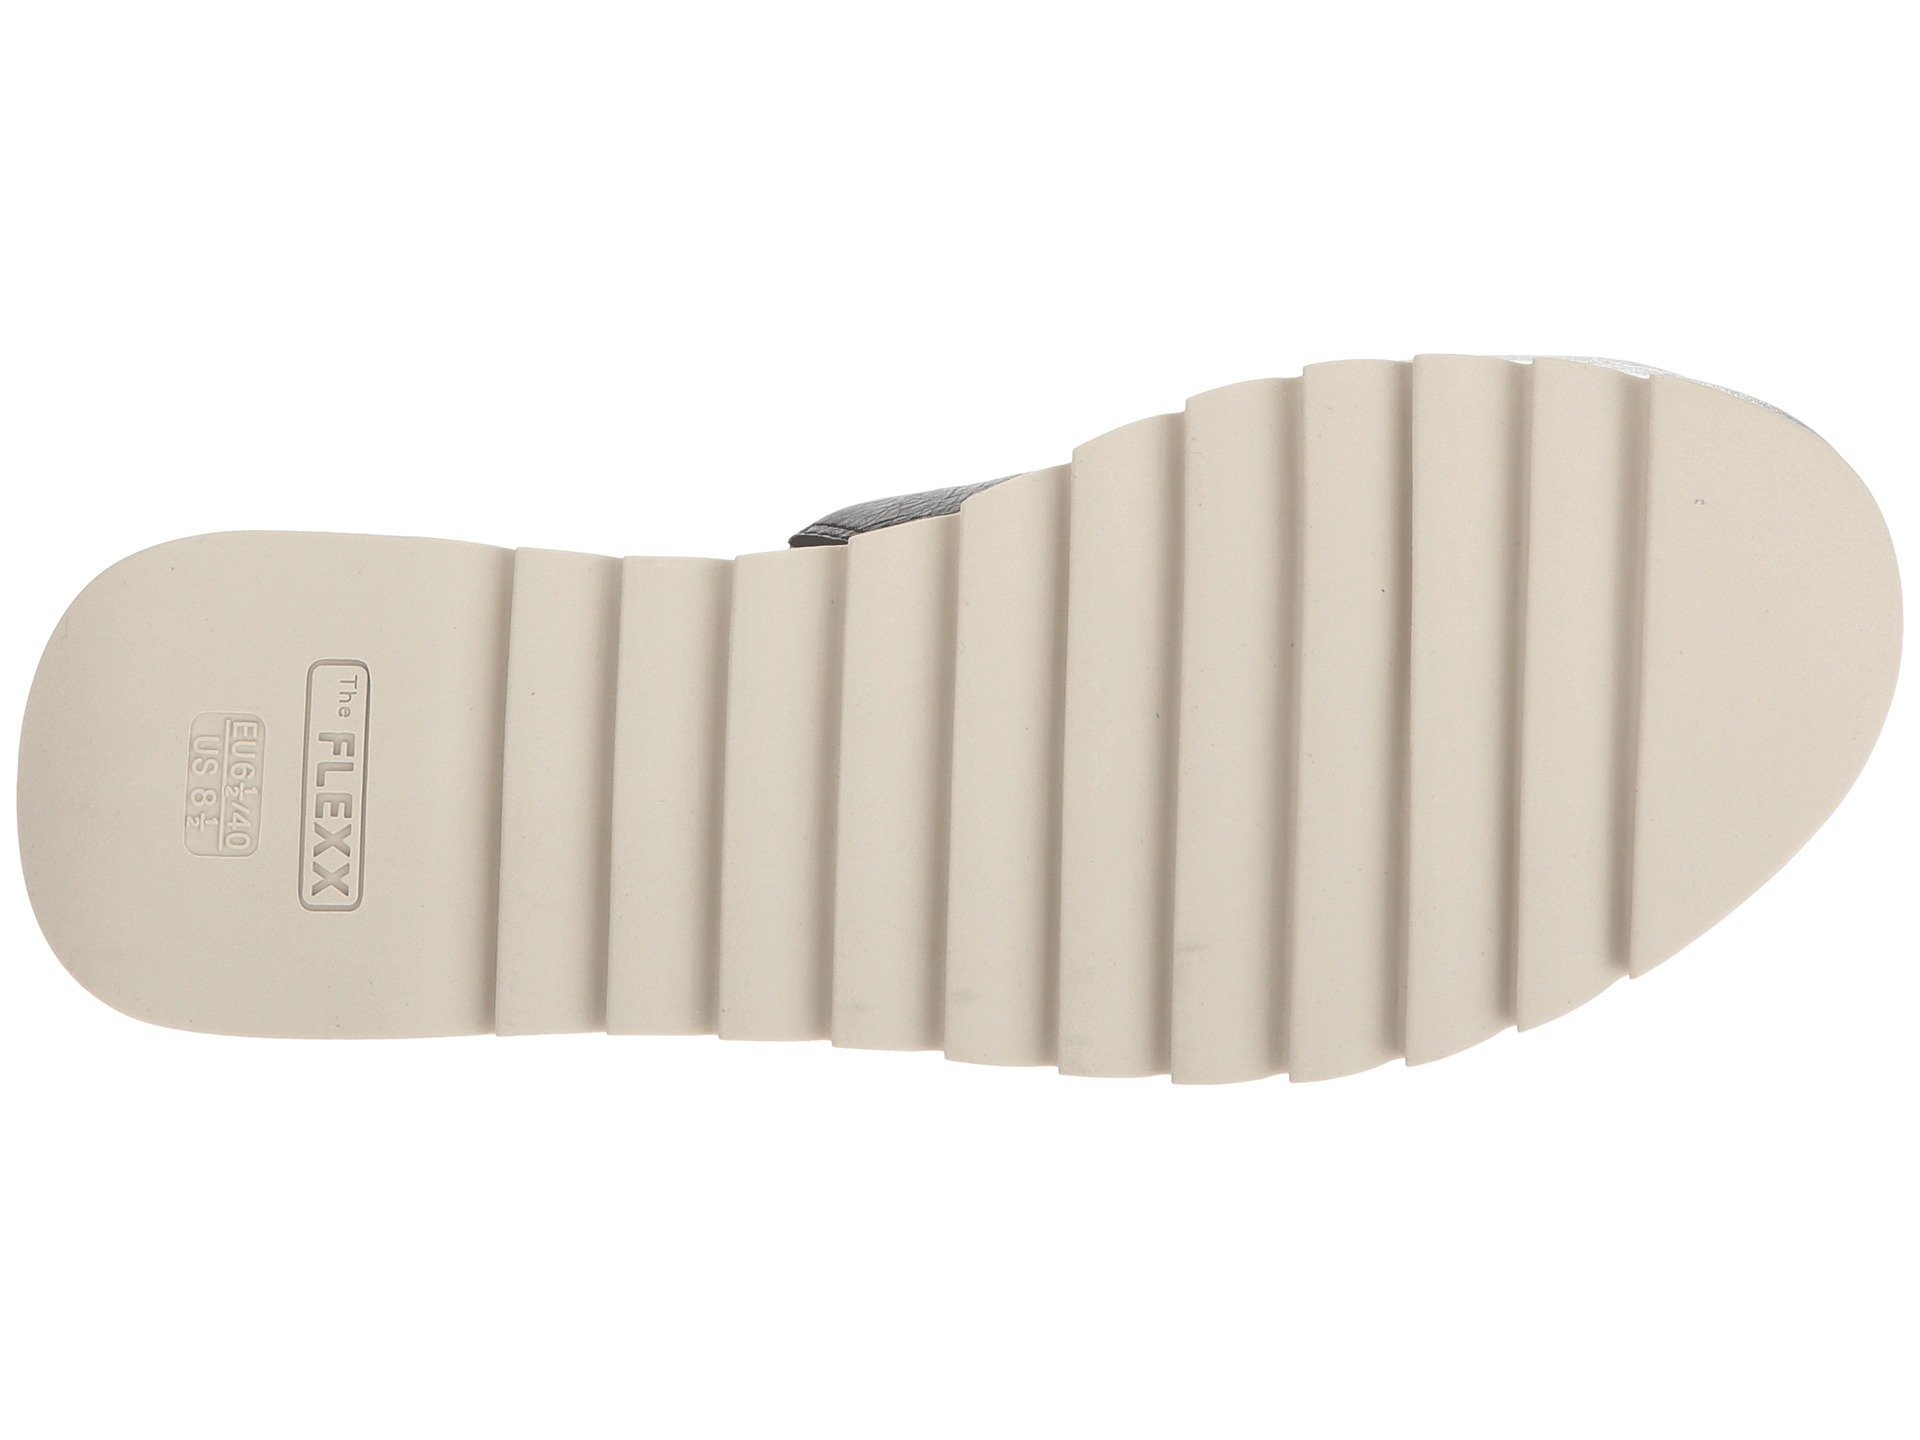line: (1036, 470, 1577, 964), (531, 588, 1017, 1009)
quad: (94, 622, 454, 957)
text: (94, 622, 454, 957)
